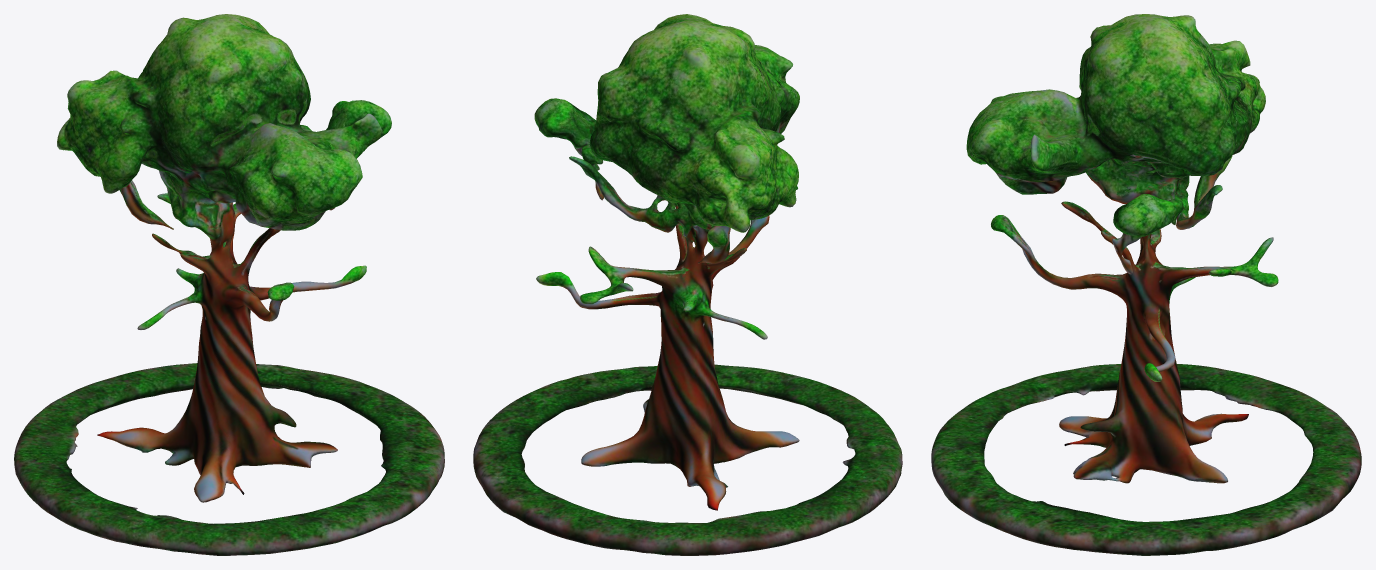
Rendered from d8458186e234_physadelic_tree_min.fbx.
3 renders of one model, left to right at view 1: azimuth 30°, elevation 25°; view 2: azimuth 150°, elevation 25°; view 3: azimuth 270°, elevation 25°, orthographic.
Parts seen in each view (by area): view 1: mesh; view 2: mesh; view 3: mesh.
Boxes of the visible parts, x1,y1,x2,y2 form: mesh: (14,14,444,555); mesh: (473,14,902,555); mesh: (931,14,1361,555).
Bounding box in the file's own units: 87.48 × 99.89 × 87.51.
